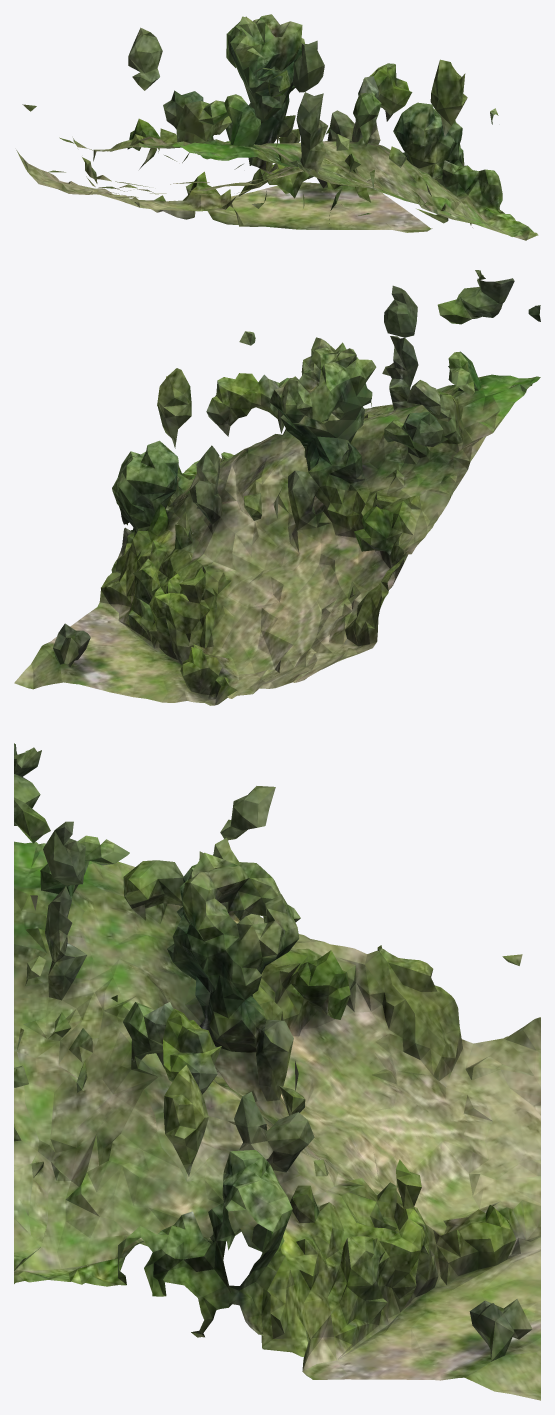
3 views of the same model, one above another, from view 1: azimuth 30°, elevation 25°; view 2: azimuth 150°, elevation 25°; view 3: azimuth 270°, elevation 25° (orthographic). The views are drawn at different scales.
Bounding box in the file's own units: 52.22 × 50.8 × 52.22.
Materials: 6 (6 with a texture image).
